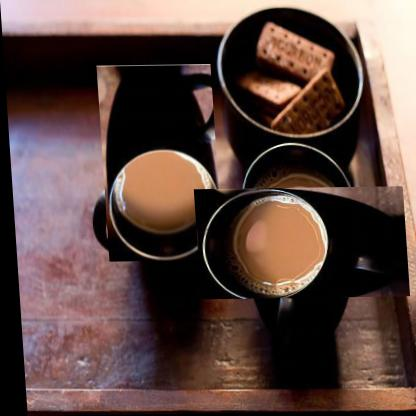milk_based_beverage: (214, 162, 384, 325), (95, 65, 221, 263)
